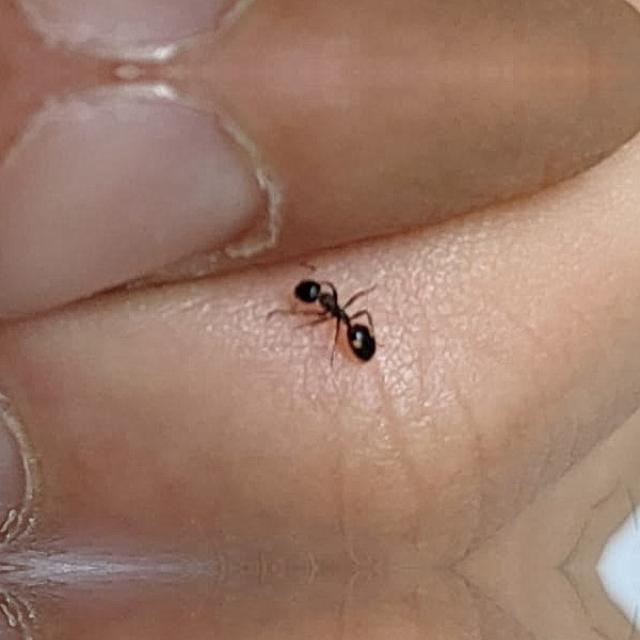Dolichoderus: (273, 260, 402, 368)
